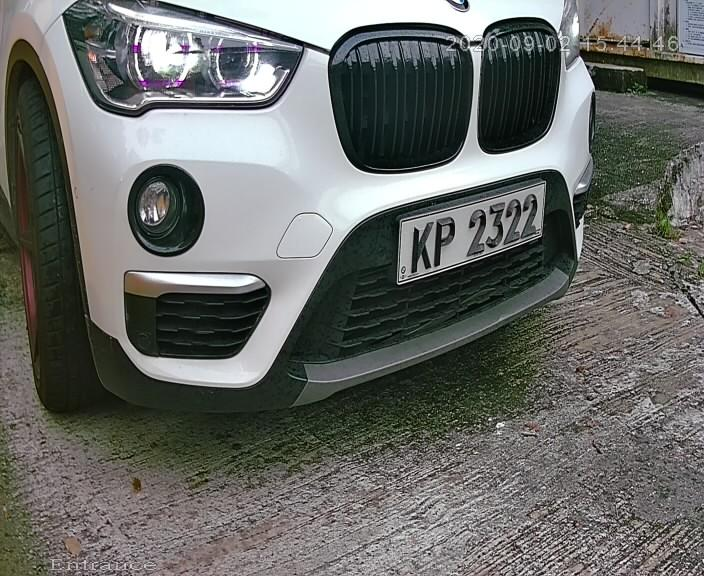Car: (4, 1, 642, 433)
License Plate: (393, 175, 551, 294)
